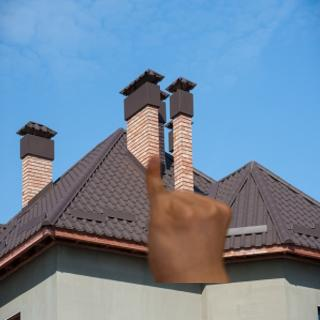FINE: (142, 151, 237, 276)
